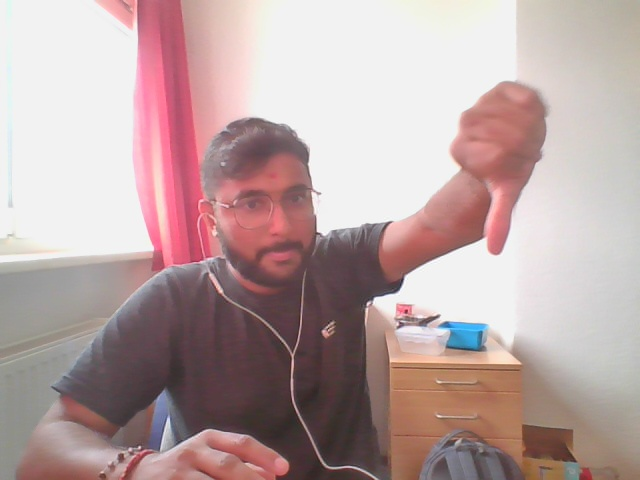ThumbsDown: (447, 80, 550, 257)
